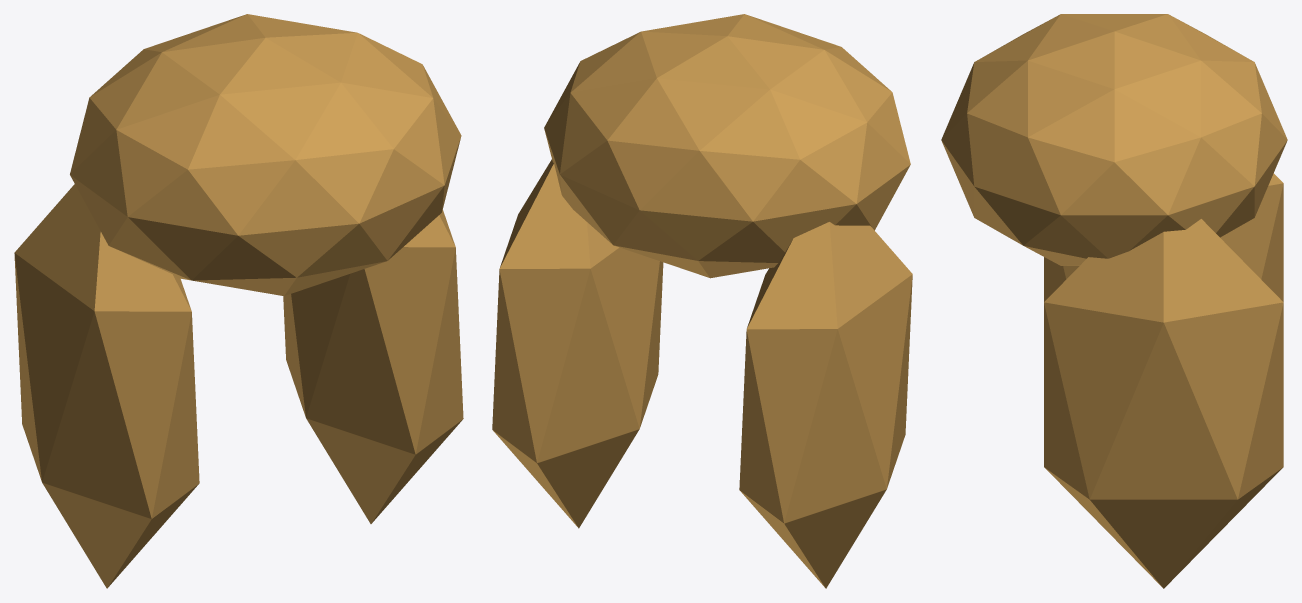
File: Modular_Hair_Long.fbx
The picture shows the model from 3 angles, left to right: view 1: azimuth 30°, elevation 25°; view 2: azimuth 150°, elevation 25°; view 3: azimuth 270°, elevation 25°; orthographic projection. The views are drawn at different scales.
Visible parts, largest first — view 1: HairCap.014, HairSide.010, HairSide.011; view 2: HairCap.014, HairSide.010, HairSide.011; view 3: HairSide.011, HairCap.014, HairSide.010.
Boxes of the visible parts, left/top/right/bottom form: HairCap.014: left=70, top=14, right=461, bottom=295; HairSide.010: left=14, top=184, right=199, bottom=588; HairSide.011: left=283, top=209, right=463, bottom=523; HairCap.014: left=544, top=14, right=910, bottom=278; HairSide.010: left=739, top=222, right=912, bottom=588; HairSide.011: left=492, top=159, right=663, bottom=528; HairSide.011: left=1044, top=219, right=1283, bottom=588; HairCap.014: left=941, top=14, right=1287, bottom=265; HairSide.010: left=1044, top=173, right=1283, bottom=301.
Bounding box in the file's own units: 0.2865 × 0.3744 × 0.2362.
